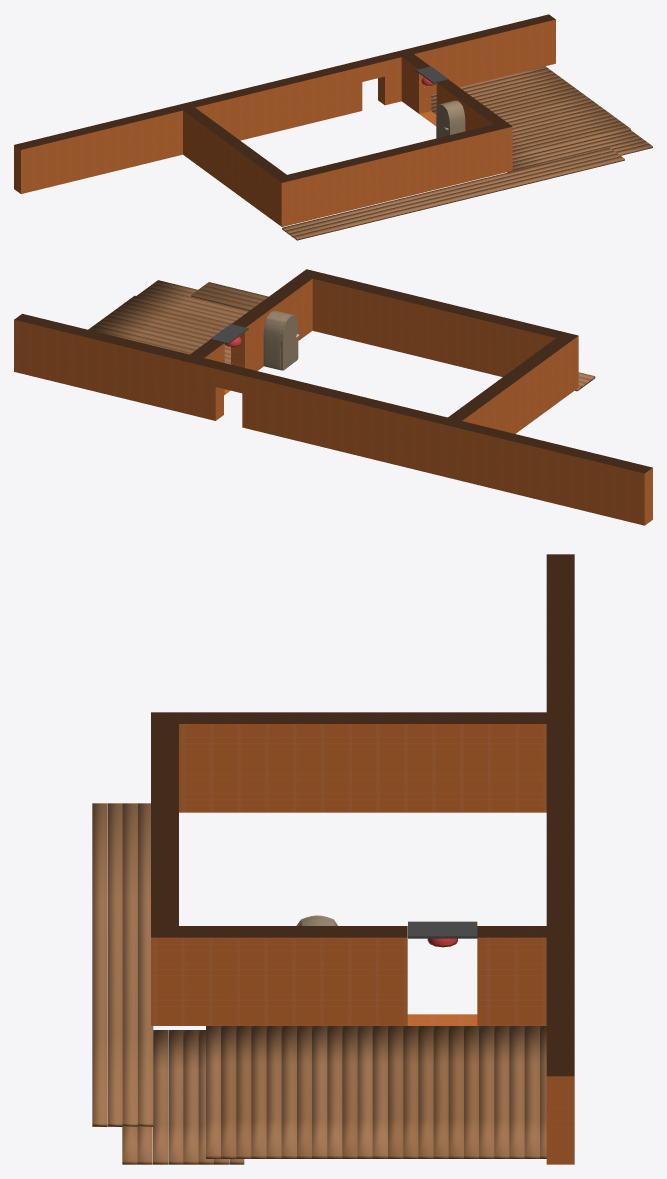
File: ParedesFinal.fbx
The picture shows the model from 3 angles, top to bottom: view 1: azimuth 30°, elevation 25°; view 2: azimuth 150°, elevation 25°; view 3: azimuth 270°, elevation 25°; orthographic projection. The views are drawn at different scales.
Parts seen in each view (by area): view 1: Chao.001, Cube.002, Cube.003, Cube.006, Cube.011, Cube.010, Chao.003, Cube.008, Cube.005, Cube.007, Geladeira, Porta Geladeira; view 2: Cube.002, Cube.006, Cube.003, Cube.011, Cube.010, Chao.001, Cube.008, Cube.005, Chao.003, Geladeira, Porta Geladeira, Cube.007 (+1 smaller); view 3: Chao.001, Cube.008, Cube.005, Chao.003, Cube.006, Cube.002, Cube.003, Cube.011, Cube.010, Balcao.001.
Part boxes in pixels (x1=…): Chao.001: x1=431, y1=66, x2=652, y2=172; Cube.002: x1=14, y1=103, x2=191, y2=193; Cube.003: x1=185, y1=61, x2=362, y2=140; Cube.006: x1=378, y1=14, x2=555, y2=105; Cube.011: x1=384, y1=124, x2=512, y2=200; Cube.010: x1=281, y1=148, x2=403, y2=226; Chao.003: x1=282, y1=148, x2=624, y2=240; Cube.008: x1=183, y1=107, x2=292, y2=226; Cube.005: x1=401, y1=54, x2=512, y2=131; Cube.007: x1=356, y1=56, x2=384, y2=81; Geladeira: x1=441, y1=100, x2=465, y2=134; Porta Geladeira: x1=436, y1=104, x2=451, y2=138; Cube.002: x1=443, y1=418, x2=652, y2=525; Cube.006: x1=14, y1=313, x2=223, y2=420; Cube.003: x1=242, y1=369, x2=451, y2=476; Cube.011: x1=306, y1=269, x2=450, y2=358; Cube.010: x1=426, y1=304, x2=578, y2=387; Chao.001: x1=88, y1=280, x2=248, y2=364; Cube.008: x1=448, y1=332, x2=577, y2=433; Cube.005: x1=190, y1=269, x2=319, y2=395; Chao.003: x1=191, y1=282, x2=595, y2=391; Geladeira: x1=263, y1=310, x2=291, y2=370; Porta Geladeira: x1=281, y1=314, x2=299, y2=370; Cube.007: x1=215, y1=363, x2=249, y2=393; Chao.001: x1=122, y1=1026, x2=546, y2=1164; Cube.008: x1=153, y1=712, x2=547, y2=812; Cube.005: x1=152, y1=926, x2=547, y2=1025; Chao.003: x1=92, y1=803, x2=153, y2=1126; Cube.006: x1=546, y1=909, x2=574, y2=1164; Cube.002: x1=546, y1=554, x2=574, y2=721; Cube.003: x1=546, y1=721, x2=574, y2=887; Cube.011: x1=151, y1=818, x2=178, y2=1025; Cube.010: x1=151, y1=712, x2=178, y2=818; Balcao.001: x1=408, y1=921, x2=477, y2=938.
Bounding box in the file's own units: 1616 × 142 × 631.
Materials: 7 (3 with a texture image).
